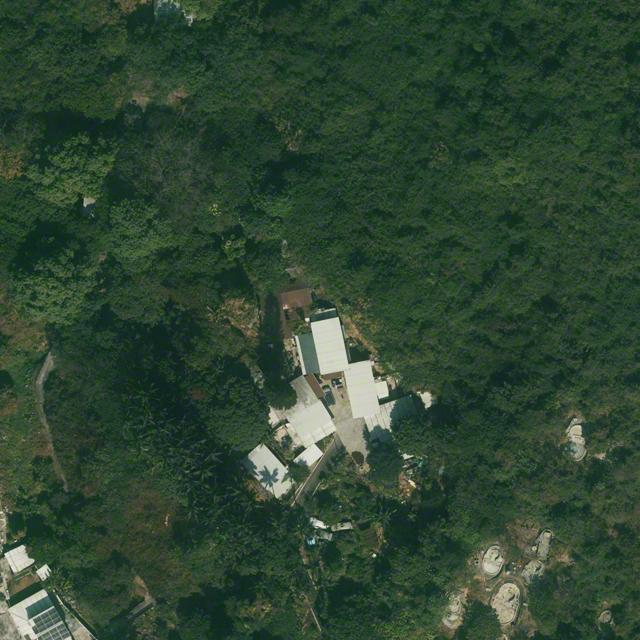panel: (33, 608, 62, 632), (56, 623, 71, 639), (31, 625, 39, 635)
